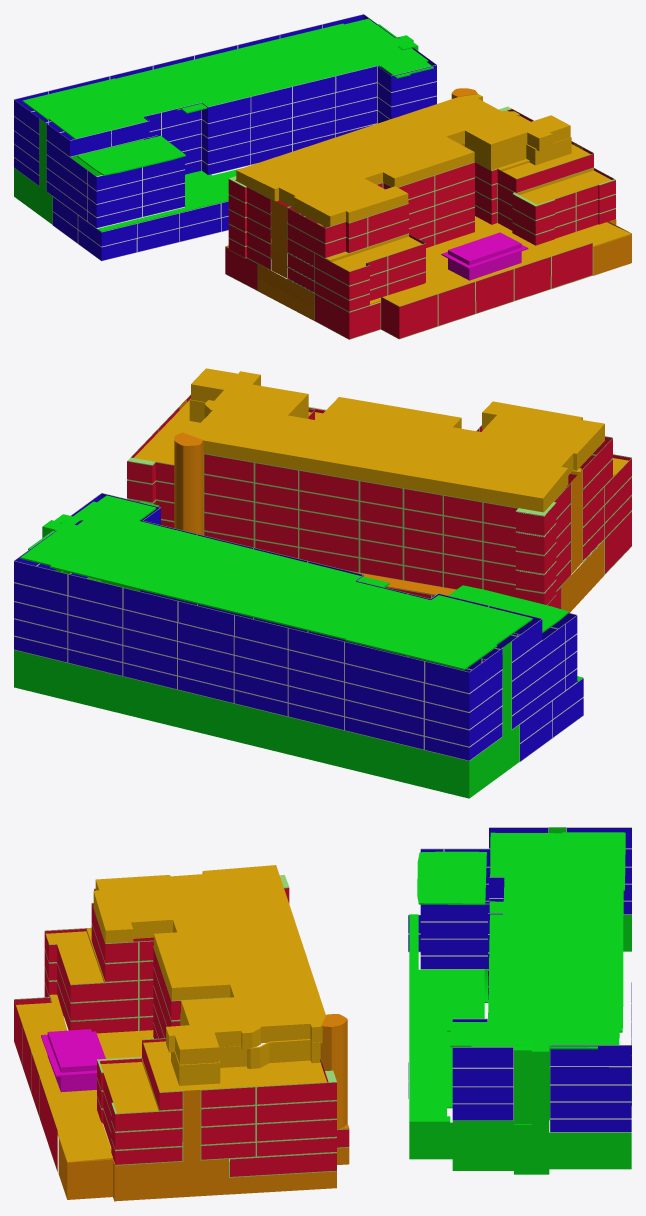
The model's file is loft_13_05_fix_02.glb.
3 views of the same model, one above another, from view 1: azimuth 30°, elevation 25°; view 2: azimuth 150°, elevation 25°; view 3: azimuth 270°, elevation 25° (orthographic). The views are drawn at different scales.
Parts seen in each view (by area): view 1: SM_Roof_02, SM_Roof_01, Build2_Divider_01, Build1_Divider_01, Build1_Divider_01.001, SM_birdHhouse_01, Build1_Part_09, Build1_Part_13, Build1_Part_01, Build2_Divider_01.003, Build1_Part_05, Build1_Part_42 (+70 smaller); view 2: SM_Roof_02, SM_Roof_01, Build2_Divider_01.003, Build2_Divider_01, Build1_Divider_01, Build1_Divider_01.001, Build1_Part_48, Build2_Part_70, Build2_Part_65, Build1_Part_49, Build1_Part_50, Build1_Part_51 (+79 smaller); view 3: SM_Roof_02, SM_Roof_01, SM_Hole_01, Build2_Divider_01.003, Build1_Divider_01, Build1_Divider_01.001, Build2_Divider_01.001, SM_birdHhouse_01, Build2_Divider_01, Build1_Part_59, SM_Roof_03, Build2_Part_100 (+30 smaller).
Part boxes in pixels (x1=…): SM_Roof_02: x1=236, y1=94, x2=631, y2=306; SM_Roof_01: x1=22, y1=18, x2=433, y2=231; Build2_Divider_01: x1=14, y1=14, x2=436, y2=261; Build1_Divider_01: x1=225, y1=106, x2=615, y2=339; Build1_Divider_01.001: x1=257, y1=88, x2=582, y2=320; SM_birdHhouse_01: x1=441, y1=232, x2=528, y2=280; Build1_Part_09: x1=381, y1=294, x2=437, y2=338; Build1_Part_13: x1=315, y1=294, x2=380, y2=339; Build1_Part_01: x1=475, y1=148, x2=593, y2=192; Build2_Divider_01.003: x1=14, y1=139, x2=143, y2=224; Build1_Part_05: x1=551, y1=243, x2=592, y2=288; Build1_Part_42: x1=287, y1=208, x2=367, y2=243; SM_Roof_02: x1=134, y1=368, x2=628, y2=512; SM_Roof_01: x1=20, y1=495, x2=582, y2=681; Build2_Divider_01.003: x1=14, y1=577, x2=519, y2=798; Build2_Divider_01: x1=14, y1=493, x2=583, y2=761; Build1_Divider_01: x1=127, y1=394, x2=631, y2=608; Build1_Divider_01.001: x1=174, y1=399, x2=604, y2=612; Build1_Part_48: x1=483, y1=484, x2=570, y2=535; Build2_Part_70: x1=345, y1=642, x2=423, y2=681; Build2_Part_65: x1=425, y1=648, x2=502, y2=692; Build1_Part_49: x1=483, y1=504, x2=570, y2=554; Build1_Part_50: x1=483, y1=523, x2=570, y2=573; Build1_Part_51: x1=483, y1=542, x2=570, y2=592; SM_Roof_02: x1=16, y1=865, x2=326, y2=1162; SM_Roof_01: x1=409, y1=832, x2=625, y2=1122; SM_Hole_01: x1=58, y1=1123, x2=349, y2=1201; Build2_Divider_01.003: x1=452, y1=915, x2=631, y2=1174; Build1_Divider_01: x1=14, y1=875, x2=349, y2=1177; Build1_Divider_01.001: x1=183, y1=1014, x2=347, y2=1161; Build2_Divider_01.001: x1=514, y1=827, x2=566, y2=1125; SM_birdHhouse_01: x1=41, y1=1029, x2=105, y2=1092; Build2_Divider_01: x1=408, y1=827, x2=631, y2=1132; Build1_Part_59: x1=230, y1=1129, x2=349, y2=1176; SM_Roof_03: x1=409, y1=1122, x2=452, y2=1159; Build2_Part_100: x1=550, y1=1045, x2=631, y2=1065.
Bounding box in the file's own units: 108 × 28.52 × 114.
